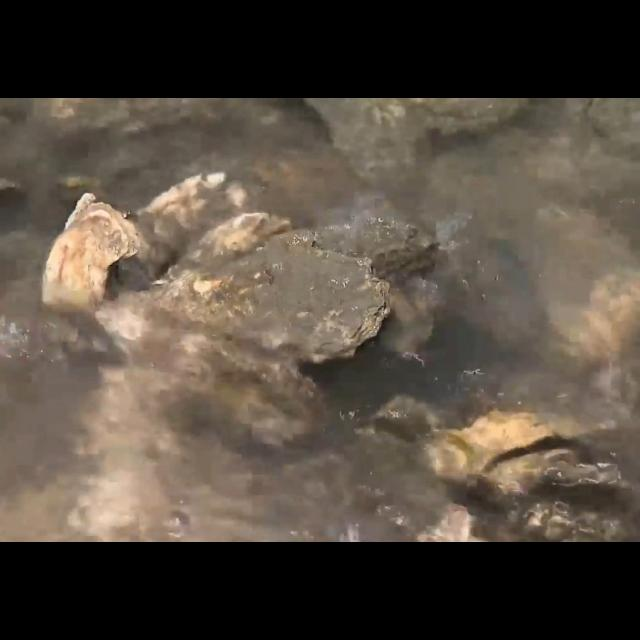Oyster-Closed: (152, 241, 394, 363), (122, 172, 258, 254), (44, 191, 140, 307), (286, 218, 439, 288)
Oyster-Open: (418, 411, 616, 489), (156, 210, 292, 284)
